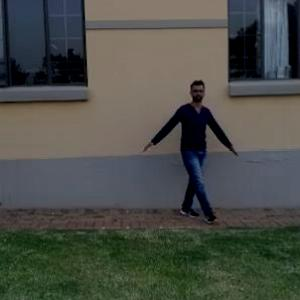land: (139, 85, 234, 232)
